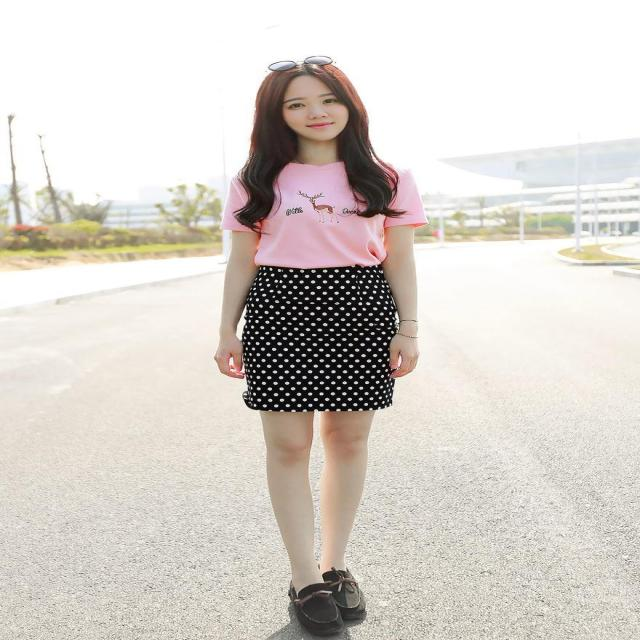short sleeve top: (222, 156, 428, 268)
skirt: (244, 263, 399, 410)
